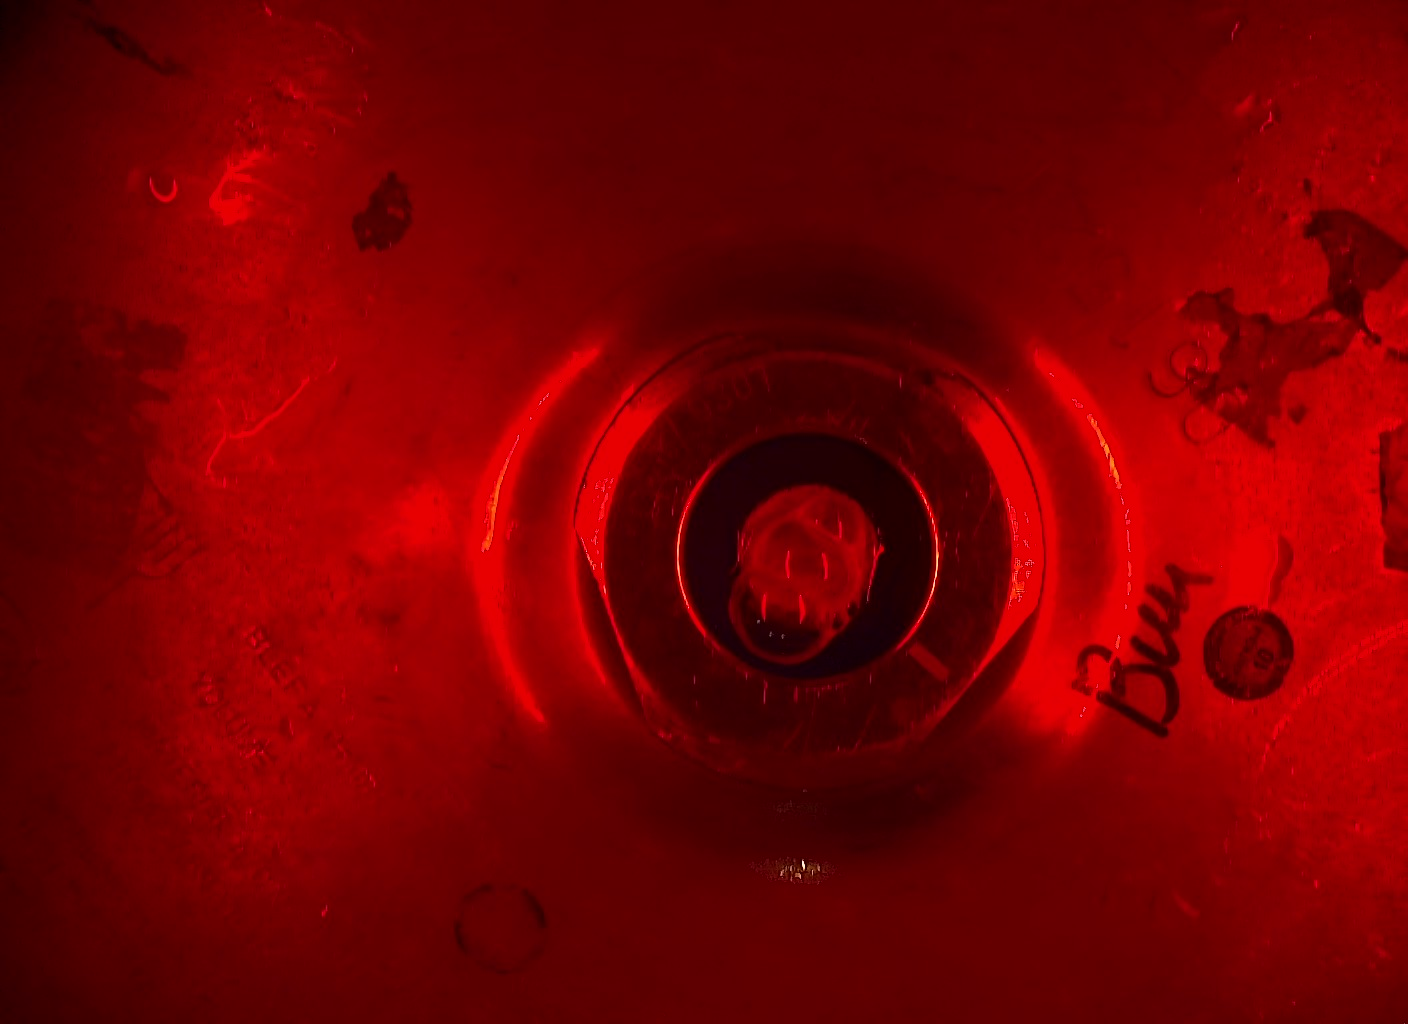pena: (725, 483, 873, 683)
